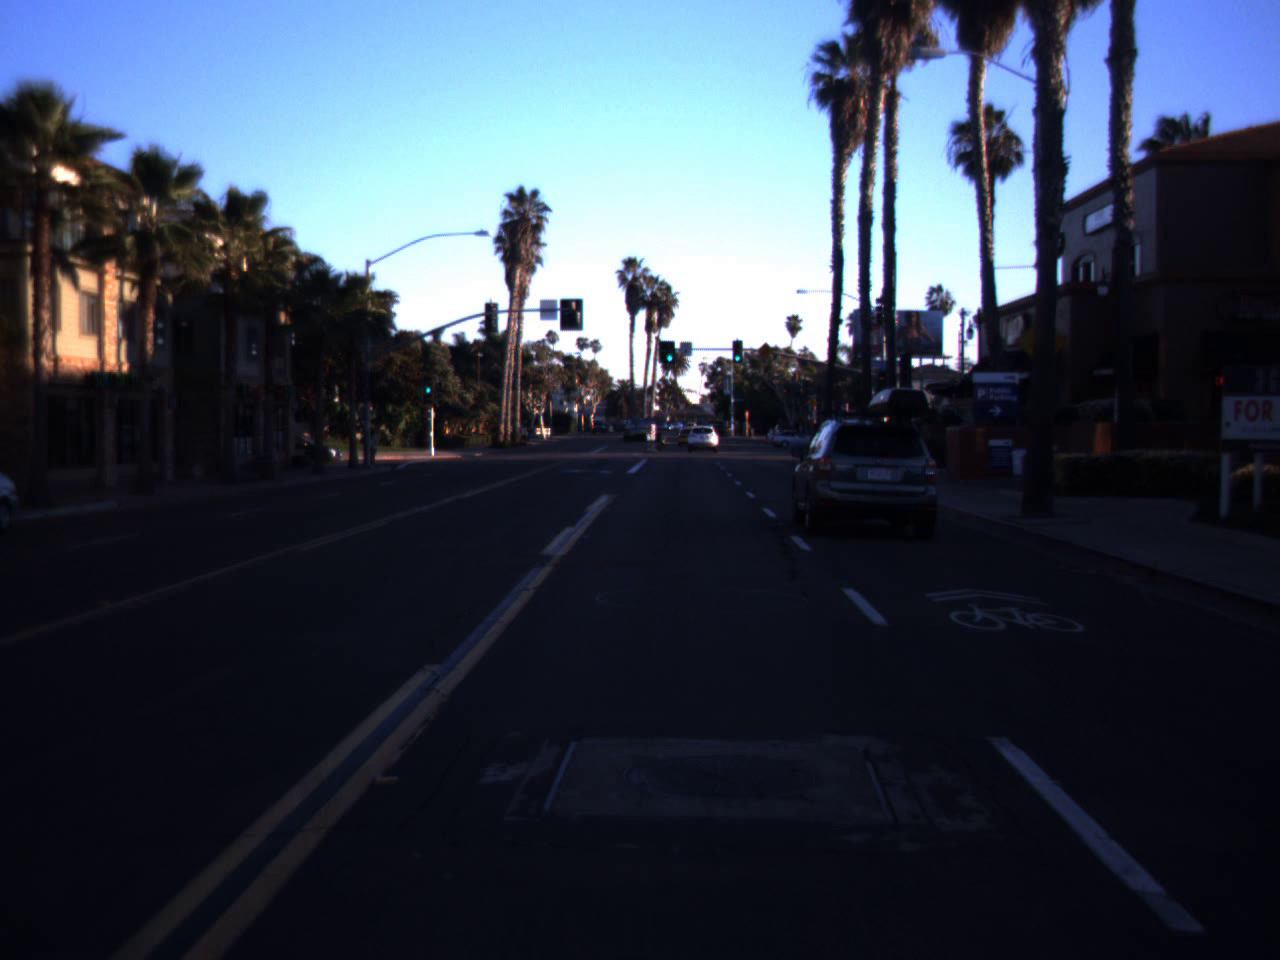go: (422, 374, 434, 394), (731, 342, 743, 362), (664, 342, 676, 362)
